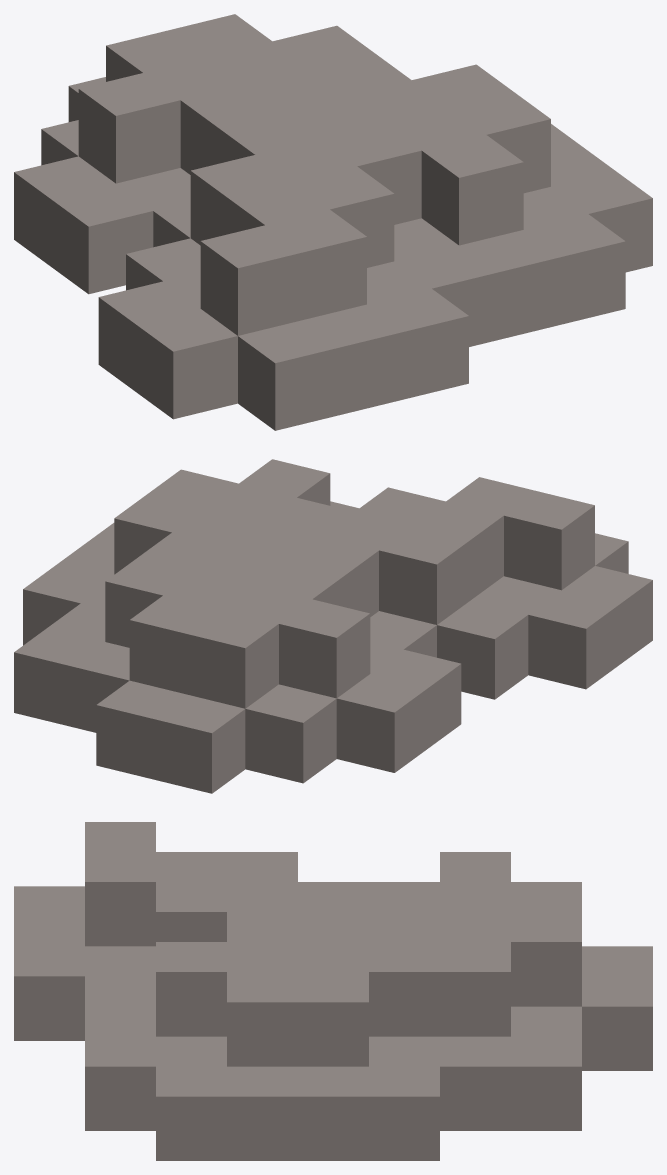
Rendered from Stone_Bigger.obj.
The picture shows the model from 3 angles, top to bottom: view 1: azimuth 30°, elevation 25°; view 2: azimuth 150°, elevation 25°; view 3: azimuth 270°, elevation 25°; orthographic projection. The views are drawn at different scales.
Size of the model in its own units: 0.8 by 0.2 by 0.9.
1 material, 1 textured.
